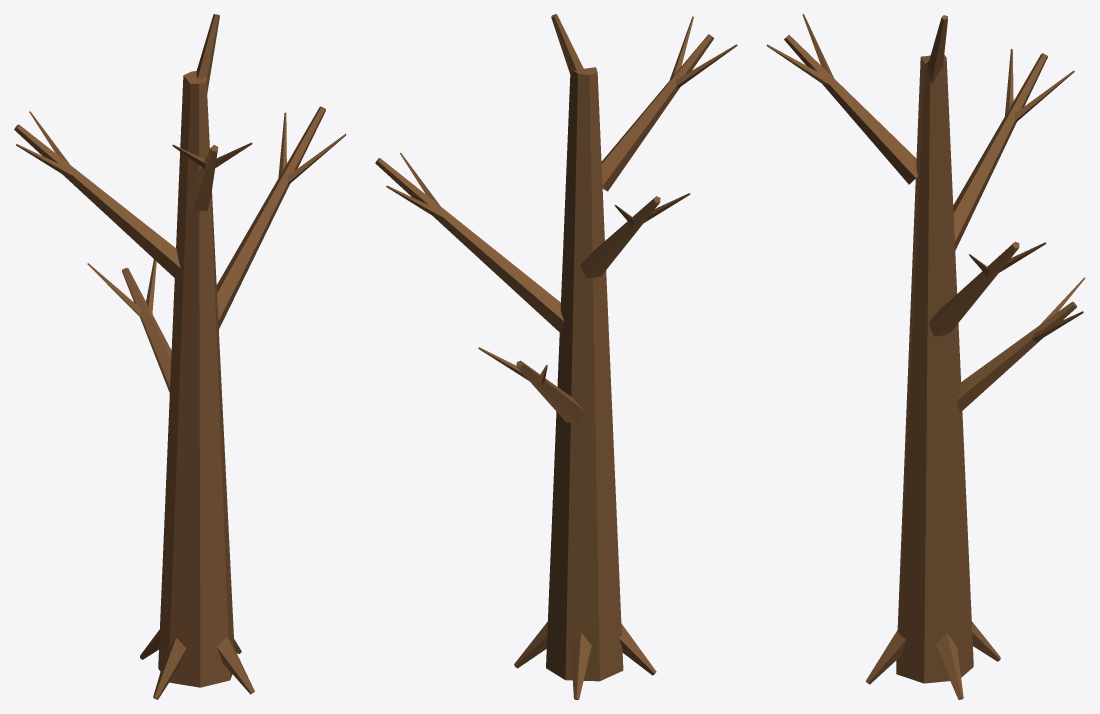
The model's file is sm_env_forest_dead.glb.
The picture shows the model from 3 angles, left to right: view 1: azimuth 30°, elevation 25°; view 2: azimuth 150°, elevation 25°; view 3: azimuth 270°, elevation 25°; orthographic projection. The views are drawn at different scales.
Parts seen in each view (by area): view 1: Trunk, Branch, Branch.001, Branch.003, Branch.002, RootFlare.002, RootFlare.003, SnappedTop; view 2: Trunk, Branch, Branch.002, Branch.001, Branch.003, RootFlare.001, SnappedTop, RootFlare.002, RootFlare; view 3: Trunk, Branch.001, Branch.002, Branch.003, Branch, RootFlare, RootFlare.003, SnappedTop.
Part boxes in pixels (x1=…): Trunk: x1=158, y1=71, x2=234, y2=687; Branch: x1=216, y1=106, x2=325, y2=329; Branch.001: x1=14, y1=124, x2=180, y2=277; Branch.003: x1=122, y1=267, x2=171, y2=393; Branch.002: x1=187, y1=145, x2=218, y2=211; RootFlare.002: x1=153, y1=638, x2=186, y2=699; RootFlare.003: x1=217, y1=637, x2=254, y2=694; SnappedTop: x1=196, y1=14, x2=219, y2=92; Trunk: x1=546, y1=67, x2=623, y2=681; Branch: x1=375, y1=158, x2=564, y2=332; Branch.002: x1=601, y1=34, x2=713, y2=191; Branch.001: x1=580, y1=196, x2=660, y2=278; Branch.003: x1=516, y1=360, x2=584, y2=425; RootFlare.001: x1=570, y1=633, x2=591, y2=699; SnappedTop: x1=551, y1=14, x2=584, y2=75; RootFlare.002: x1=619, y1=623, x2=656, y2=675; RootFlare: x1=514, y1=621, x2=547, y2=668; Trunk: x1=896, y1=55, x2=973, y2=683; Branch.001: x1=953, y1=53, x2=1047, y2=250; Branch.002: x1=784, y1=35, x2=917, y2=184; Branch.003: x1=957, y1=301, x2=1076, y2=412; Branch: x1=929, y1=241, x2=1019, y2=336; RootFlare: x1=936, y1=632, x2=963, y2=699; RootFlare.003: x1=865, y1=629, x2=905, y2=684; SnappedTop: x1=928, y1=15, x2=947, y2=84.
Bounding box in the file's own units: 3.08 × 6.16 × 2.66.
